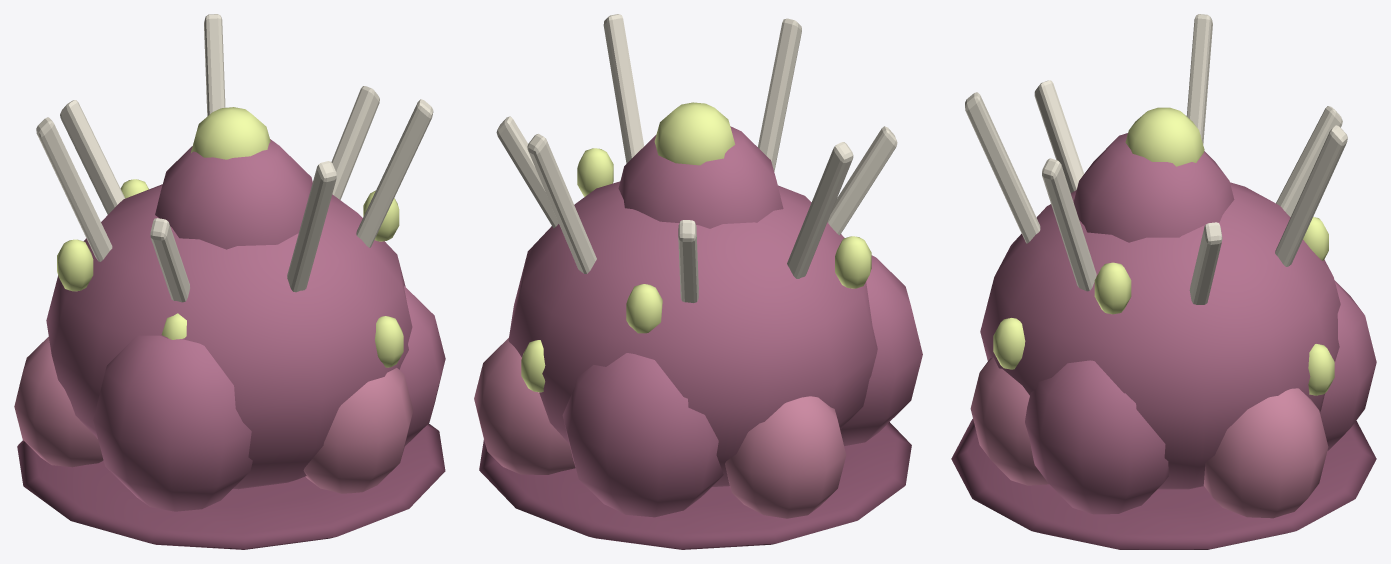
File: obj_nest.fbx
The picture shows the model from 3 angles, left to right: view 1: azimuth 30°, elevation 25°; view 2: azimuth 150°, elevation 25°; view 3: azimuth 270°, elevation 25°; orthographic projection.
Parts seen in each view (by area): view 1: obj_nest; view 2: obj_nest; view 3: obj_nest.
Part boxes in pixels (left/top/right/bottom): obj_nest: left=14, top=14, right=445, bottom=549; obj_nest: left=474, top=14, right=922, bottom=549; obj_nest: left=951, top=14, right=1376, bottom=549.
Size of the model in its own units: 1 by 1 by 1.
